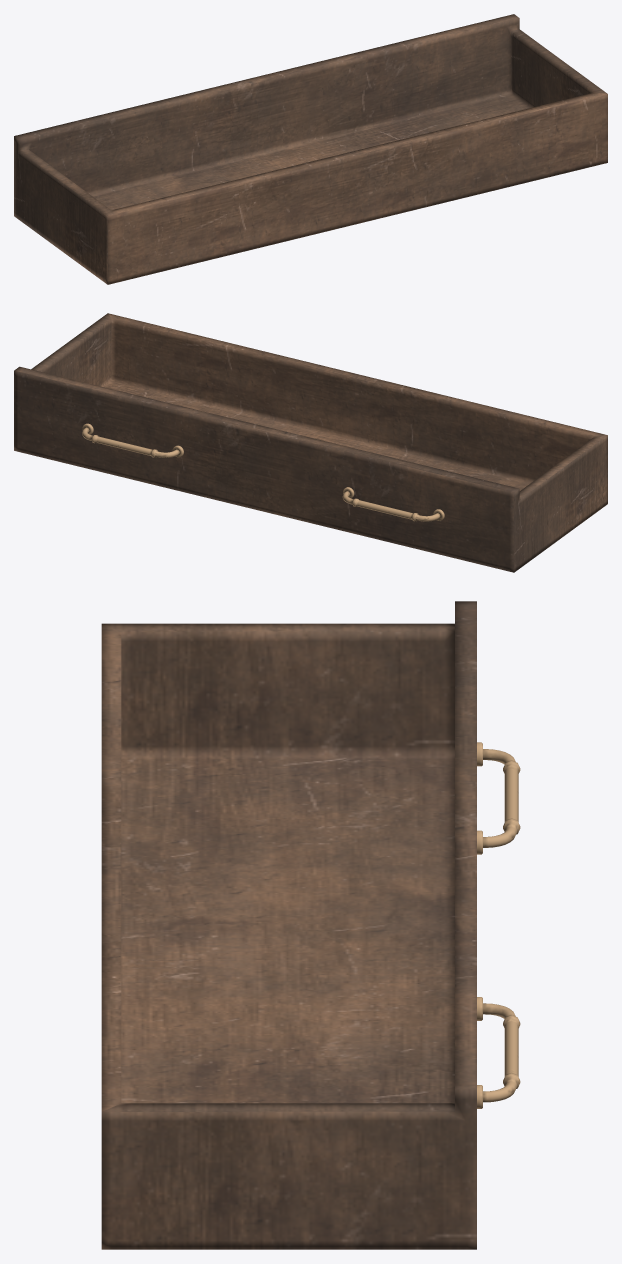
The model's file is SM_Locker01Drawer01_2_LOD0.glb.
3 renders of one model, top to bottom at view 1: azimuth 30°, elevation 25°; view 2: azimuth 150°, elevation 25°; view 3: azimuth 270°, elevation 25°, orthographic. The views are drawn at different scales.
Visible parts, largest first — view 1: SM_Locker01Drawer01_2_LOD0; view 2: SM_Locker01Drawer01_2_LOD0; view 3: SM_Locker01Drawer01_2_LOD0.
Boxes of the visible parts, x1=… form: SM_Locker01Drawer01_2_LOD0: x1=14, y1=14, x2=607, y2=284; SM_Locker01Drawer01_2_LOD0: x1=14, y1=313, x2=607, y2=572; SM_Locker01Drawer01_2_LOD0: x1=101, y1=601, x2=520, y2=1249.
Bounding box in the file's own units: 1.16 × 0.1773 × 0.4202.
Materials: 1 (1 with a texture image).
